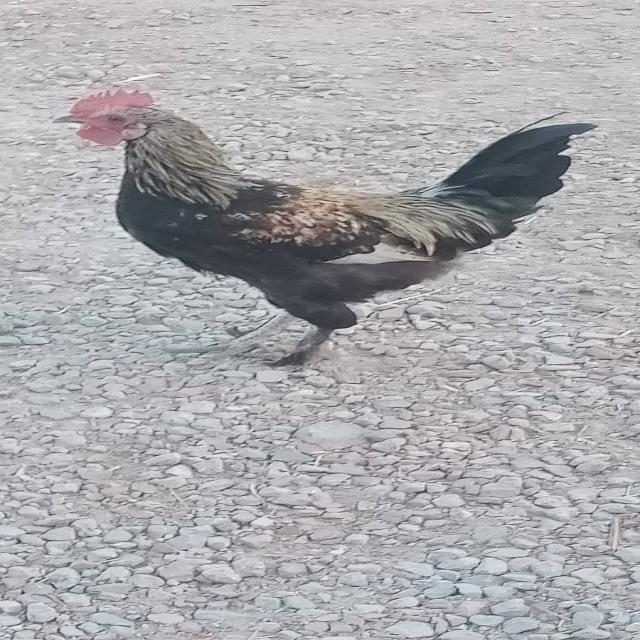Healthy: (61, 76, 602, 383)
